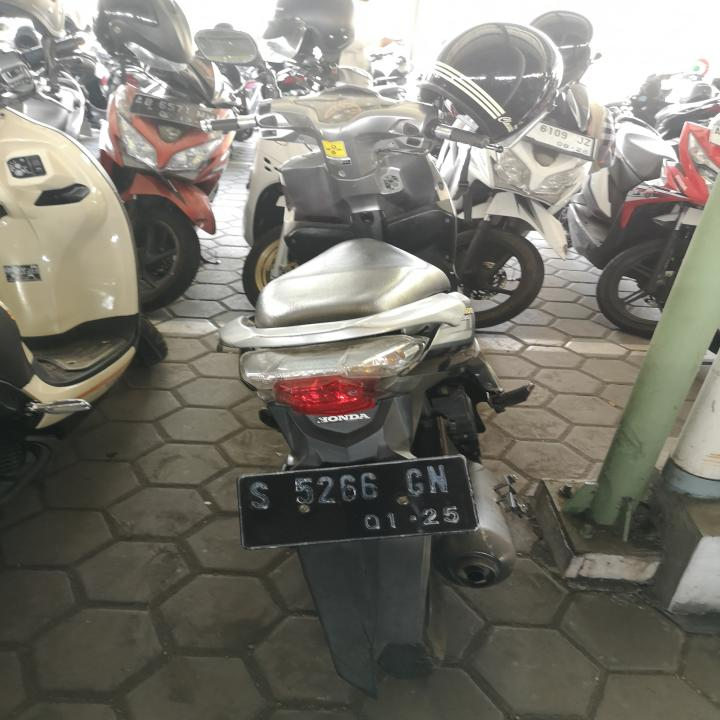plate: (235, 454, 480, 550), (130, 93, 219, 131), (522, 121, 598, 161)
